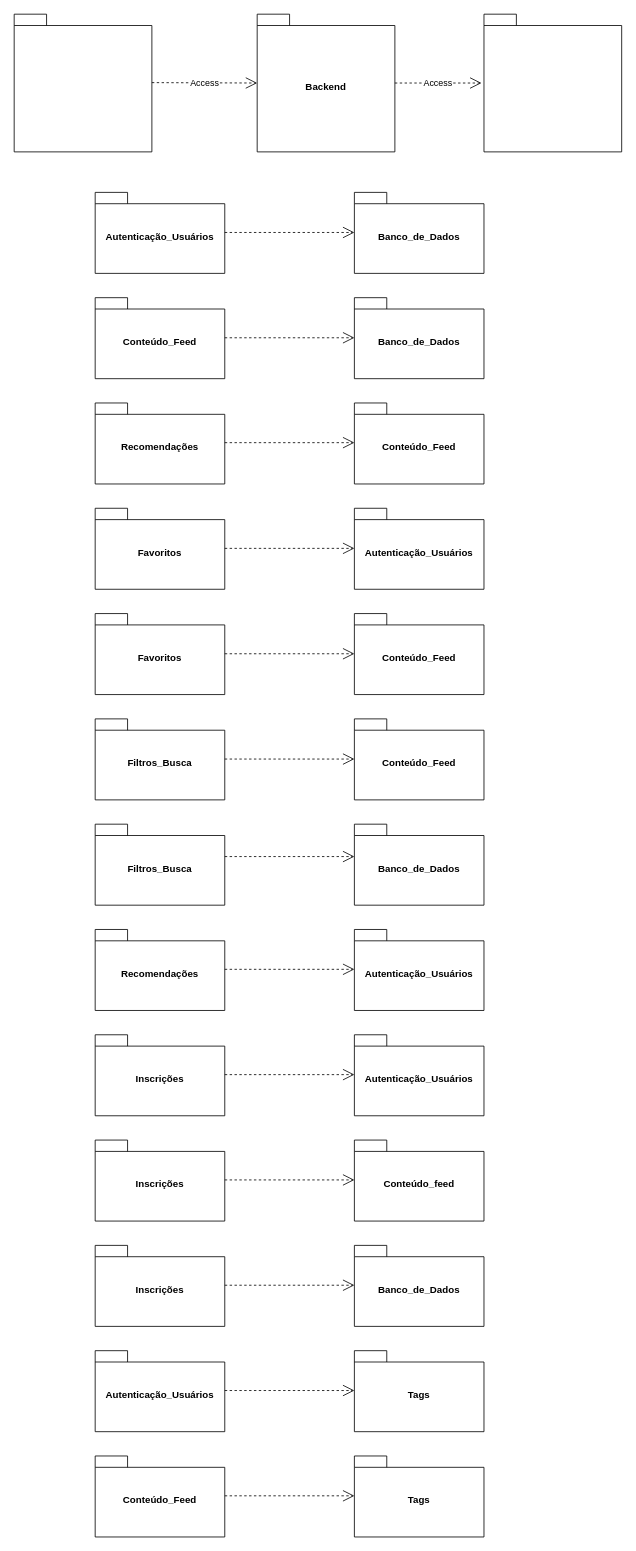
Image size: 636x1551. Some labels were removed from this diagram. Here are the shapes that lost their labels. From the top down, the centre of each, then its label:
At [82,82]: "FrontEnd".
At [552,82]: "Servidor IA".
